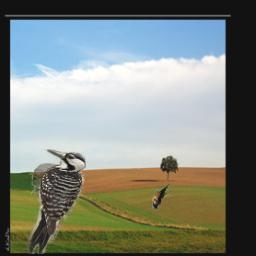Swallow: (152, 185, 172, 210)
Woodpecker: (27, 149, 86, 254)
